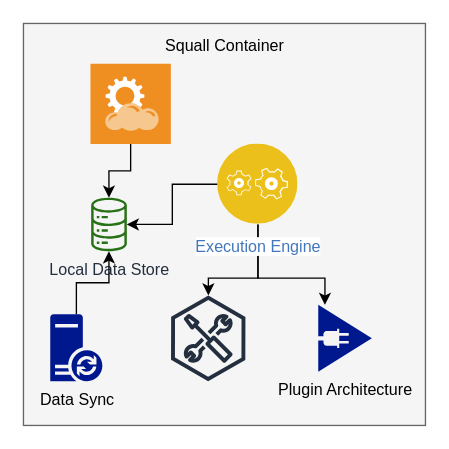
Image size: 449x449. Some labels were removed from this diagram. The shapes that lost their labels are listed below. From the top down, each one's box as (x1, y1, x2, y2) in pixels, then its label:
(90, 63, 170, 143): RESTful API
(170, 295, 245, 381): Builtin Toolkit
